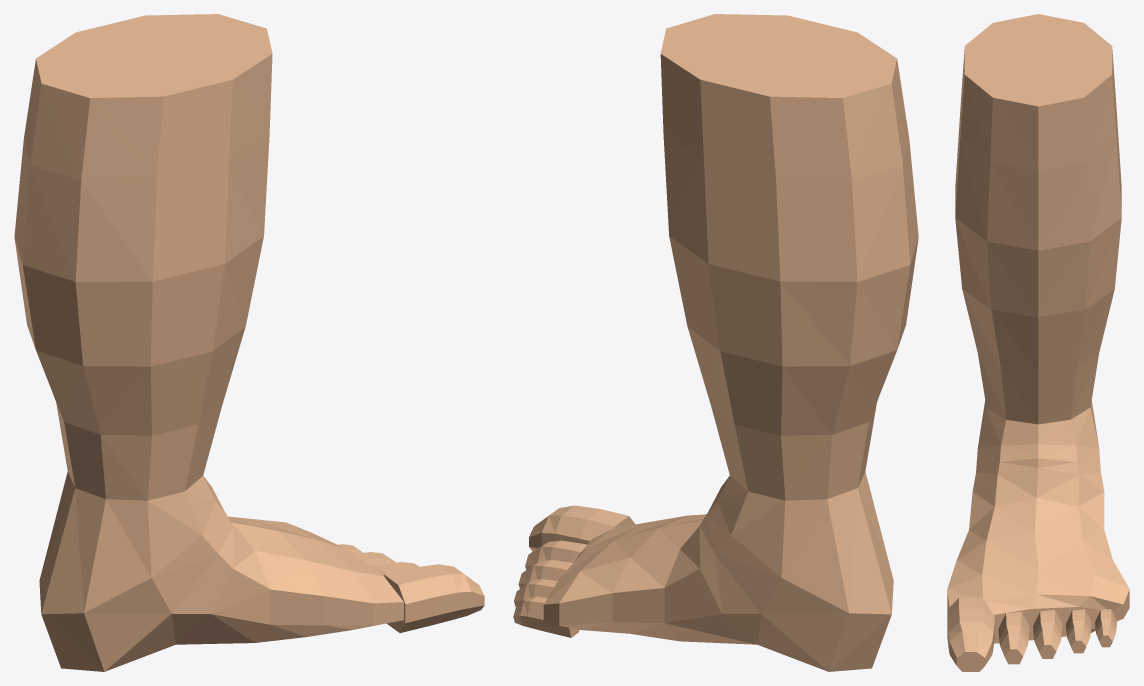
The model's file is KANJI_12_ASHI.fbx.
The picture shows the model from 3 angles, left to right: view 1: azimuth 30°, elevation 25°; view 2: azimuth 150°, elevation 25°; view 3: azimuth 270°, elevation 25°; orthographic projection. The views are drawn at different scales.
Parts seen in each view (by area): view 1: SM_KANJI_12_Ashi; view 2: SM_KANJI_12_Ashi; view 3: SM_KANJI_12_Ashi.
Part boxes in pixels (left/top/right/bottom): SM_KANJI_12_Ashi: left=14, top=14, right=484, bottom=671; SM_KANJI_12_Ashi: left=513, top=14, right=918, bottom=671; SM_KANJI_12_Ashi: left=947, top=14, right=1129, bottom=671.
Bounding box in the file's own units: 0.22 × 0.3 × 0.1.
